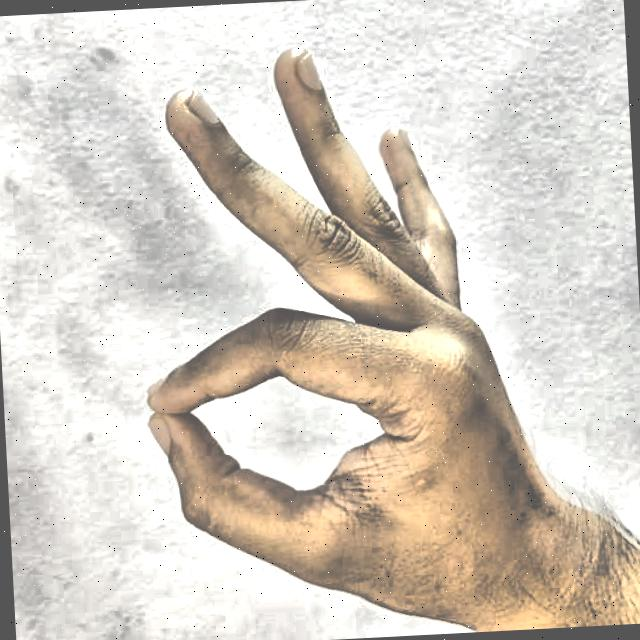Ca: (109, 18, 583, 640)
